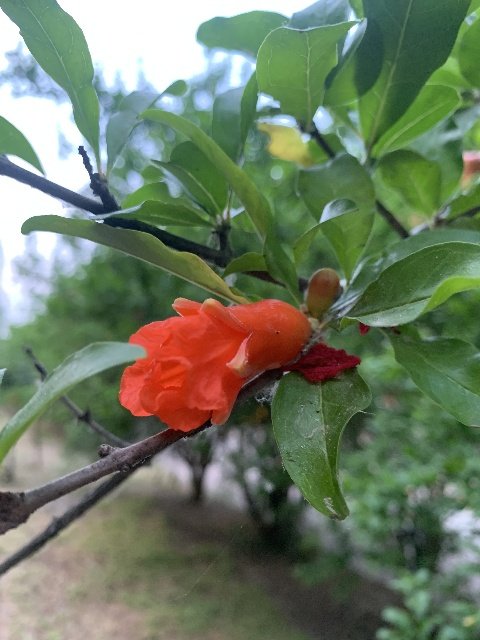bud: (305, 267, 339, 315)
flower: (117, 296, 310, 432)
